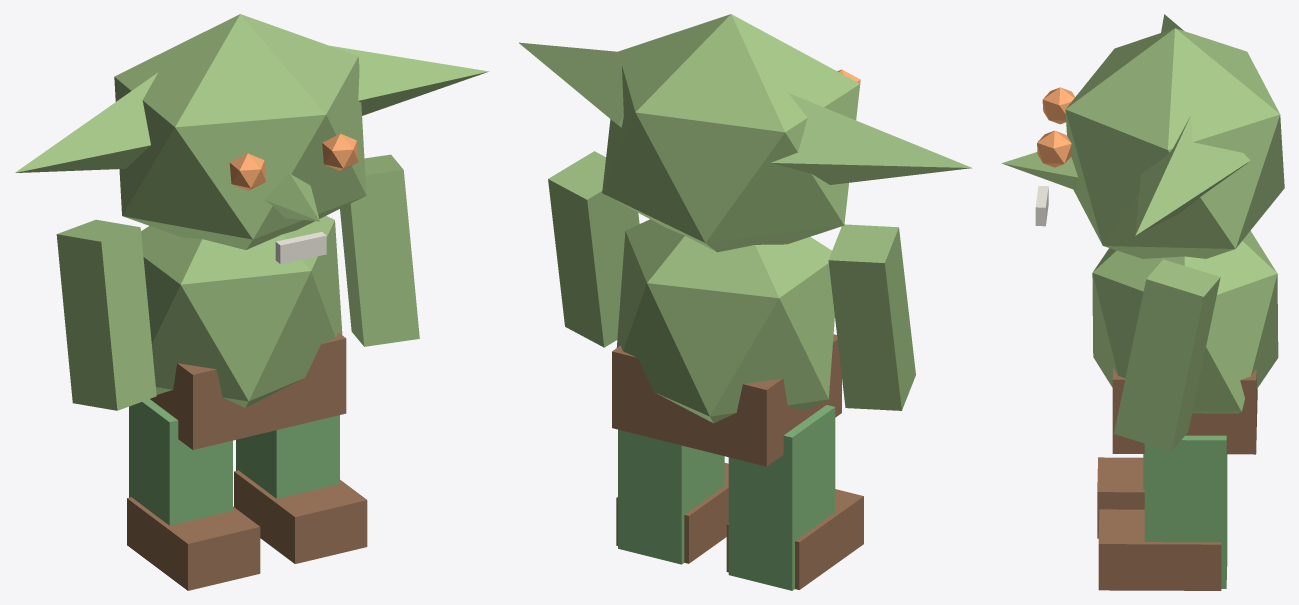
Rendered from npcpose_goblin_idle_06.glb.
3 renders of one model, left to right at view 1: azimuth 30°, elevation 25°; view 2: azimuth 150°, elevation 25°; view 3: azimuth 270°, elevation 25°, orthographic. The views are drawn at different scales.
Visible parts, largest first — view 1: npcpose; view 2: npcpose; view 3: npcpose.
Boxes of the visible parts, x1,y1,x2,y2 form: npcpose: (15,14,489,590); npcpose: (519,14,971,590); npcpose: (1001,14,1284,590).
Bounding box in the file's own units: 1.03 × 1.12 × 0.5536.
